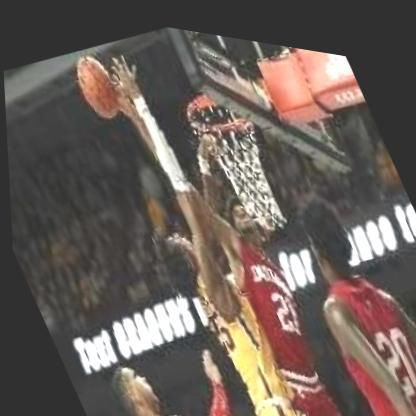basketball: (64, 40, 132, 130)
